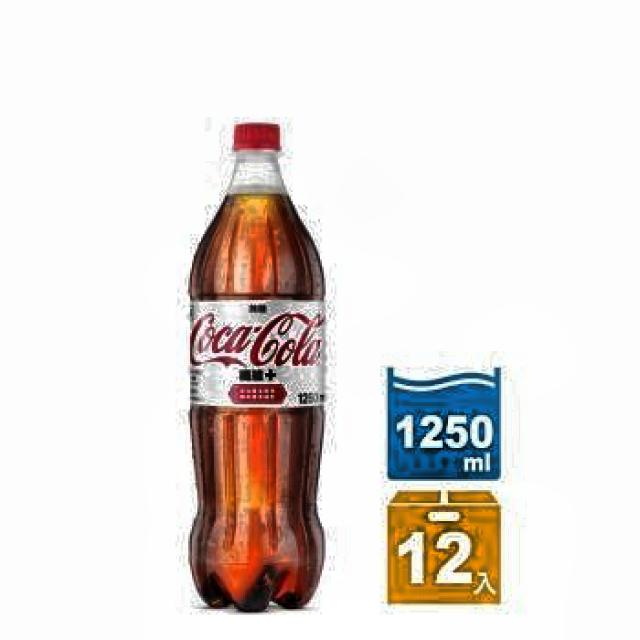Bottles: (162, 83, 354, 640)
